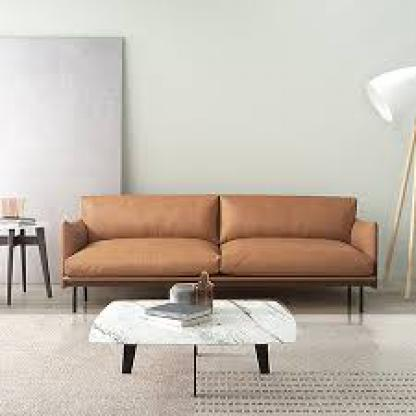sofa: (58, 196, 374, 305)
